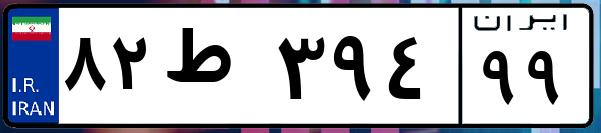2: (110, 28, 158, 98)
3: (270, 28, 330, 110)
4: (385, 28, 445, 110)
8: (57, 26, 110, 100)
9: (330, 28, 385, 110), (475, 38, 525, 113), (525, 38, 570, 115)
ط: (158, 20, 270, 120)
